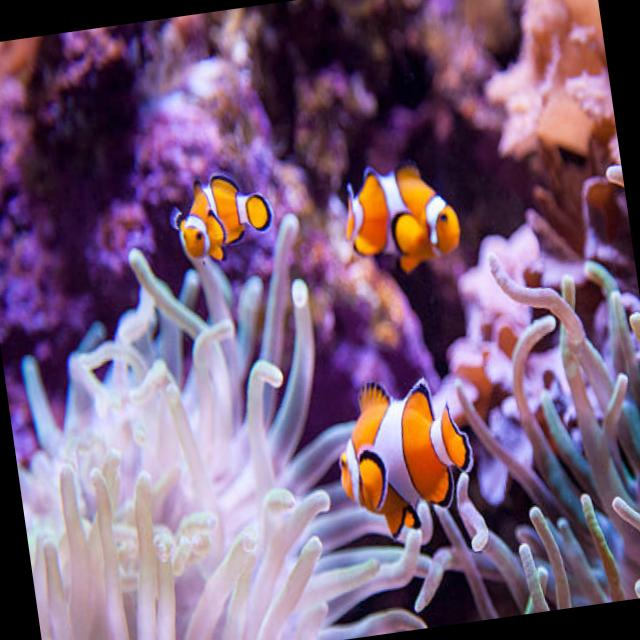ClownFish: (328, 368, 482, 542), (338, 151, 464, 274), (170, 164, 278, 266)
